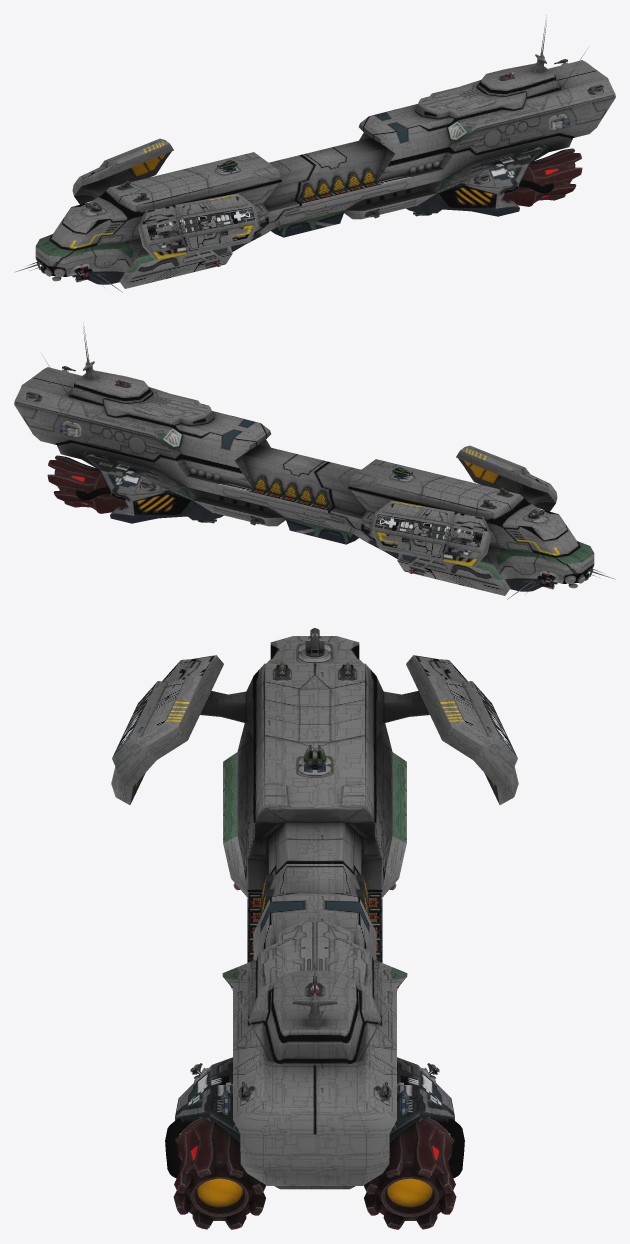
The model's file is spaceship2.glb.
3 renders of one model, top to bottom at view 1: azimuth 30°, elevation 25°; view 2: azimuth 150°, elevation 25°; view 3: azimuth 270°, elevation 25°, orthographic. The views are drawn at different scales.
Parts seen in each view (by area): view 1: ship_engine_Final_ship_0, final_guns!!!!_GUNS_0; view 2: ship_engine_Final_ship_0, final_guns!!!!_GUNS_0; view 3: ship_engine_Final_ship_0, final_guns!!!!_GUNS_0.
Boxes of the visible parts, x1,y1,x2,y2 form: ship_engine_Final_ship_0: (14, 15, 615, 292); final_guns!!!!_GUNS_0: (69, 59, 603, 282); ship_engine_Final_ship_0: (14, 322, 615, 599); final_guns!!!!_GUNS_0: (26, 366, 560, 589); ship_engine_Final_ship_0: (111, 636, 518, 1229); final_guns!!!!_GUNS_0: (190, 628, 439, 1114).
Size of the model in its own units: 1.87 by 0.5065 by 0.5658.
2 materials, 2 textured.
